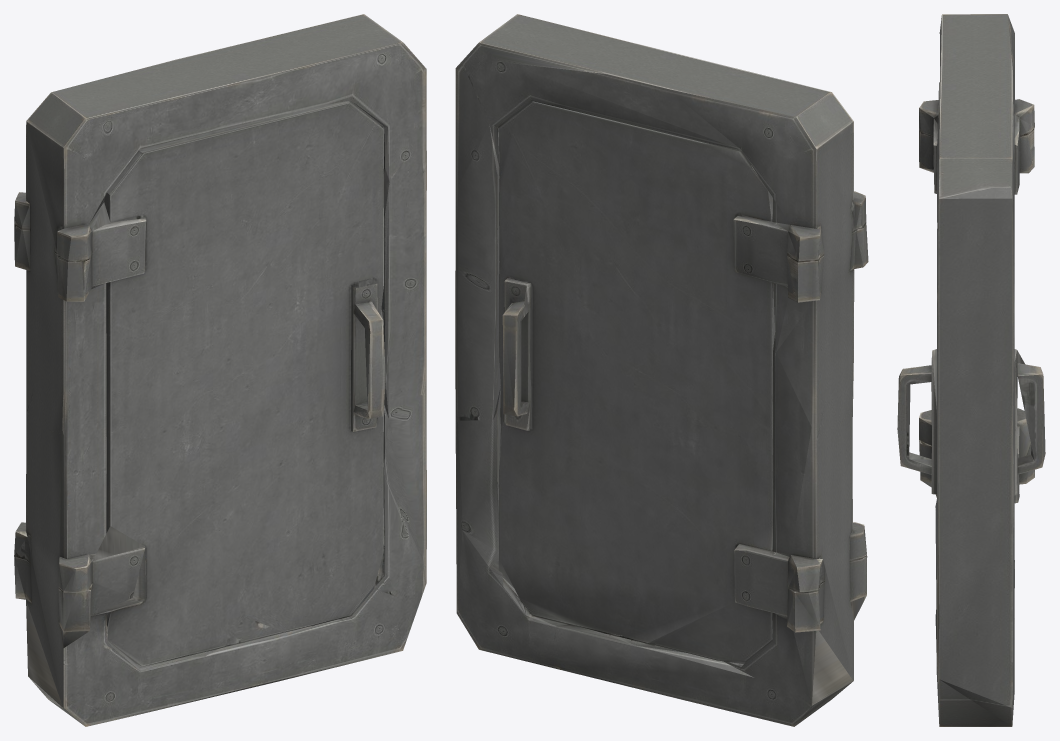
File: imperial_defence_battery__entrance_door_leaf.glb
3 views of the same model, side by side, from view 1: azimuth 30°, elevation 25°; view 2: azimuth 150°, elevation 25°; view 3: azimuth 270°, elevation 25° (orthographic). The views are drawn at different scales.
Parts seen in each view (by area): view 1: mesh_node; view 2: mesh_node; view 3: mesh_node.
Boxes of the visible parts, box(x1,y1,x2,y2) form: mesh_node: box(14, 14, 426, 726); mesh_node: box(455, 14, 868, 726); mesh_node: box(897, 14, 1045, 726).
Bounding box in the file's own units: 2.03 × 3.2 × 0.7546.
1 material, 1 textured.
